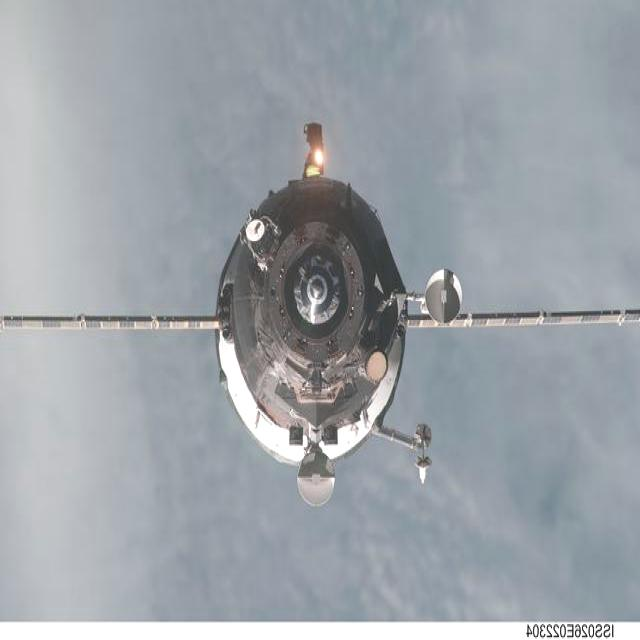medium_debris: (0, 122, 640, 505)
